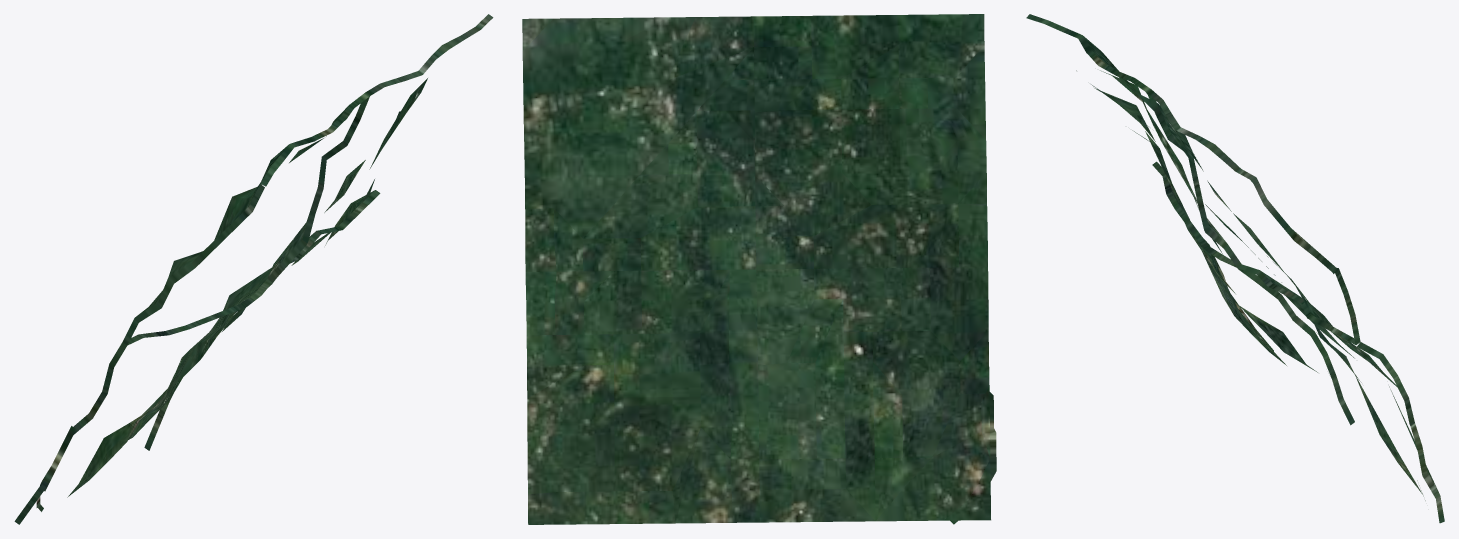
3 renders of one model, left to right at view 1: azimuth 30°, elevation 25°; view 2: azimuth 150°, elevation 25°; view 3: azimuth 270°, elevation 25°, orthographic. The views are drawn at different scales.
Size of the model in its own units: 5241 by 4456 by 4210.
1 material, 1 textured.
